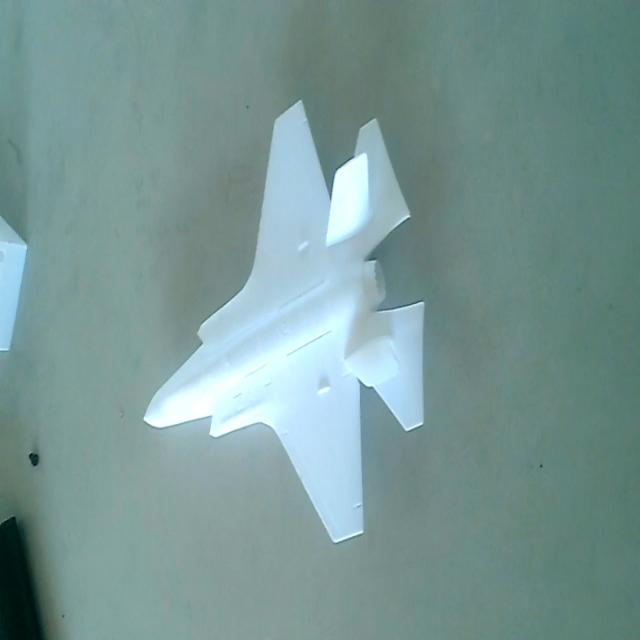Jet: (141, 99, 434, 554)
